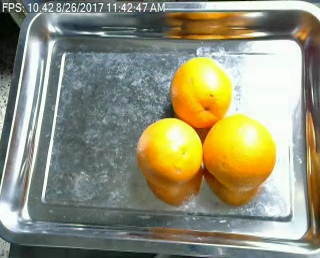Orange: (203, 115, 277, 190), (134, 116, 203, 189), (170, 56, 232, 129)
